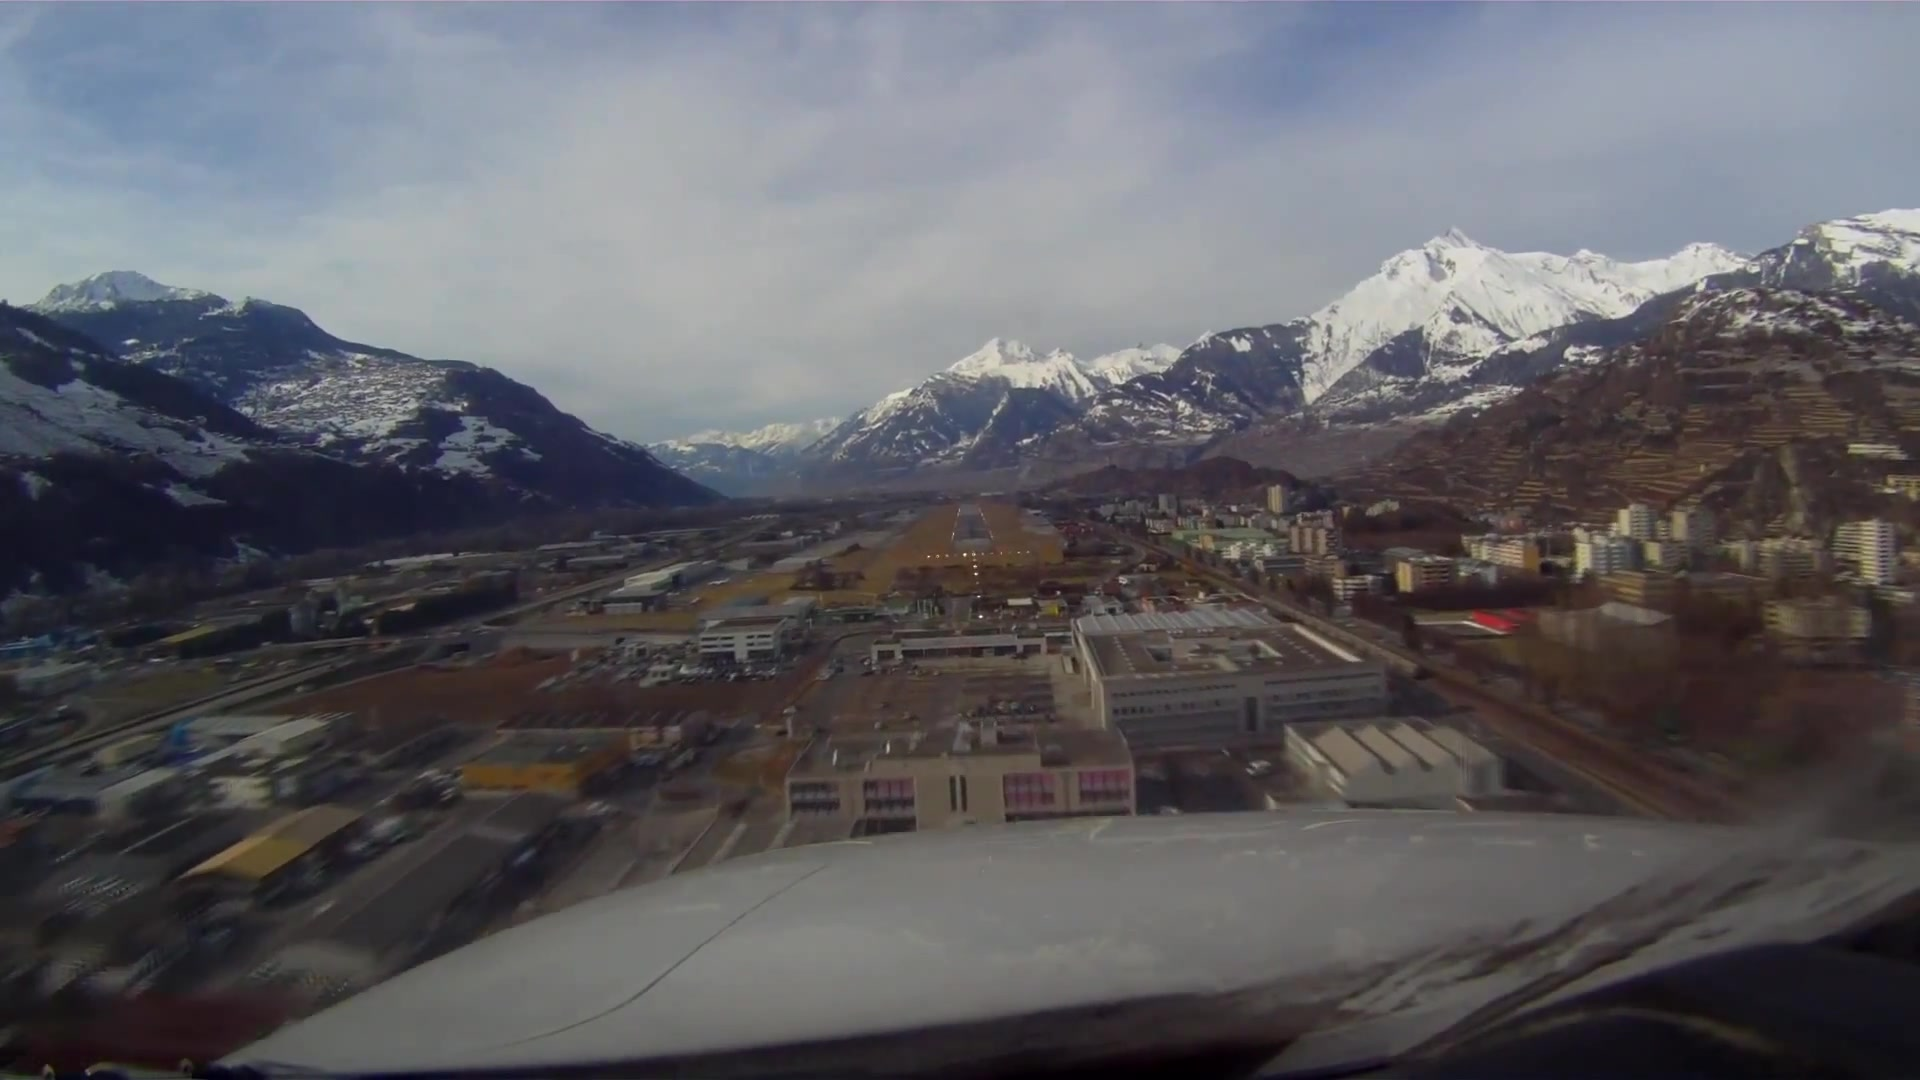runway: (949, 502, 996, 554)
